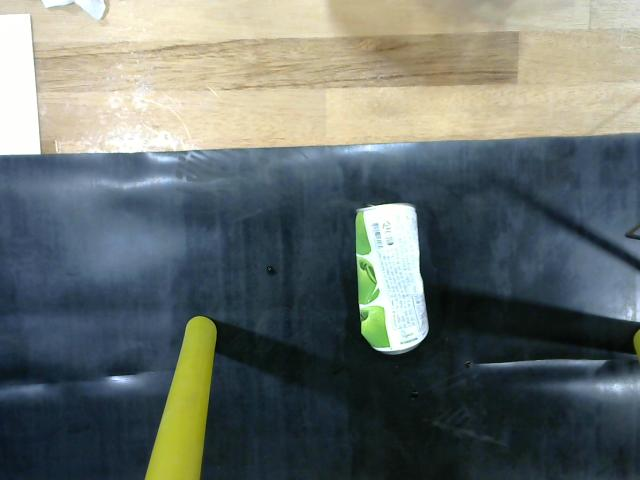can: (347, 190, 438, 361)
